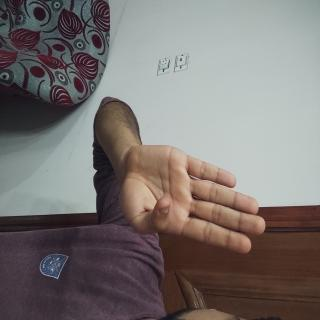KAAF: (102, 66, 200, 275)
